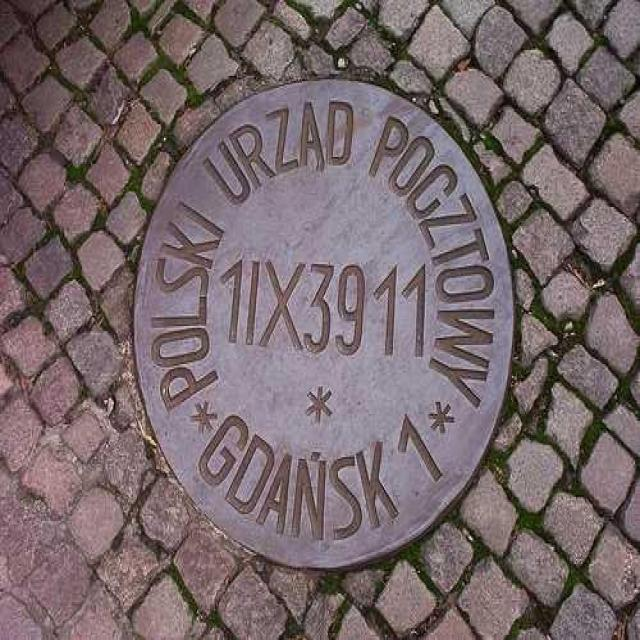manhole: (135, 79, 514, 567)
